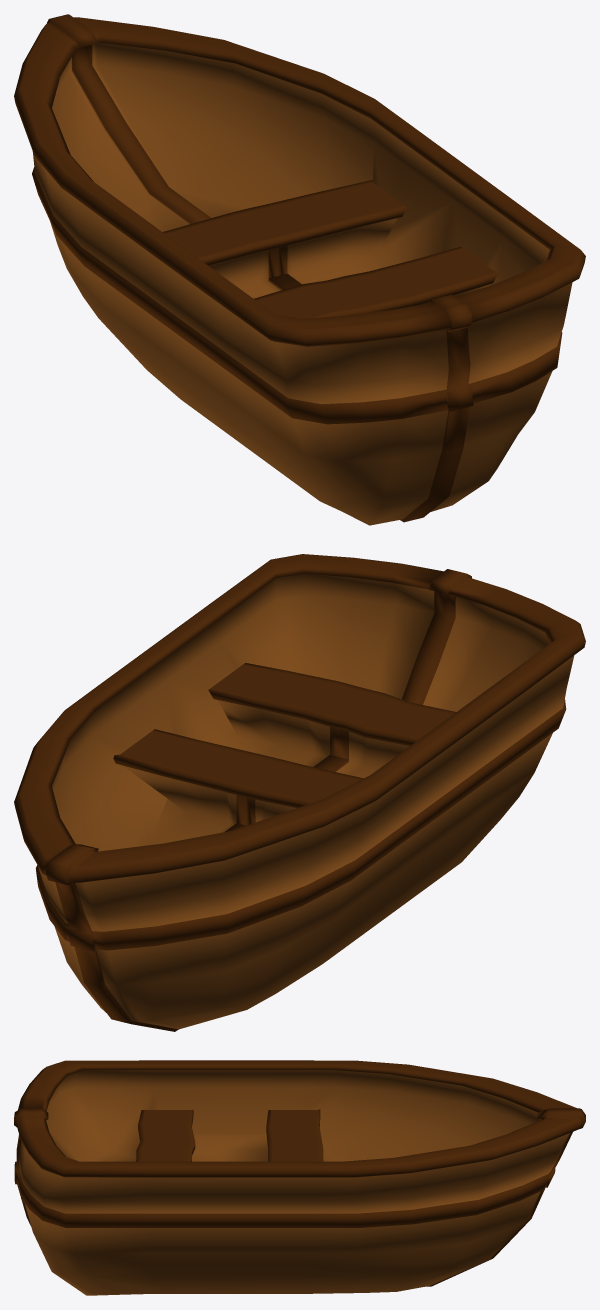
The model's file is Rowboat.fbx.
3 views of the same model, one above another, from view 1: azimuth 30°, elevation 25°; view 2: azimuth 150°, elevation 25°; view 3: azimuth 270°, elevation 25° (orthographic). The views are drawn at different scales.
Parts seen in each view (by area): view 1: Cube; view 2: Cube; view 3: Cube.
Part boxes in pixels (left/top/right/bottom): Cube: left=14, top=14, right=585, bottom=525; Cube: left=14, top=554, right=585, bottom=1031; Cube: left=14, top=1060, right=585, bottom=1295.
Size of the model in its own units: 352 by 266 by 780.
